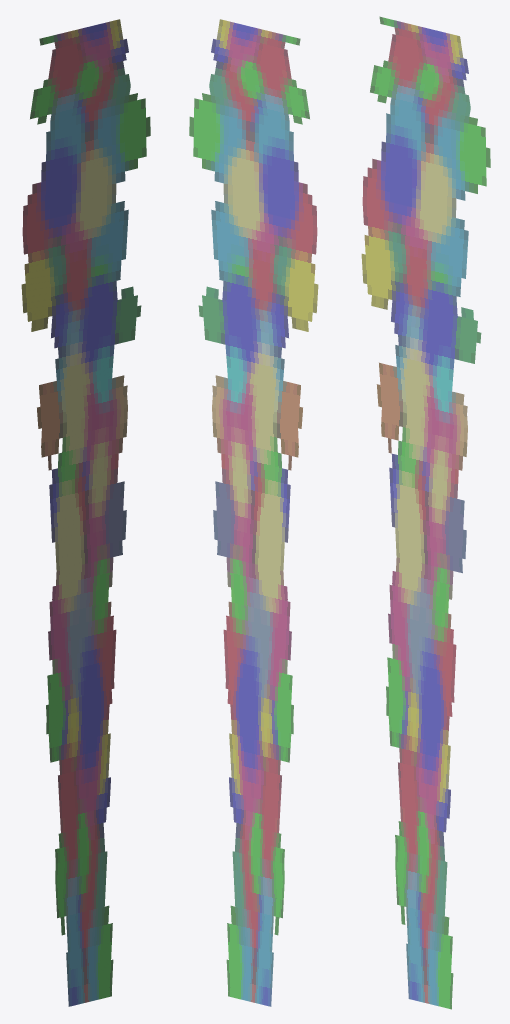
The picture shows the model from 3 angles, left to right: view 1: azimuth 30°, elevation 25°; view 2: azimuth 150°, elevation 25°; view 3: azimuth 330°, elevation 25°; orthographic projection.
Parts seen in each view (by area): view 1: Joint_0_Object_0; view 2: Joint_0_Object_0; view 3: Joint_0_Object_0.
Part boxes in pixels (x1,y1,x2,y2): Joint_0_Object_0: (21,19,150,1006); Joint_0_Object_0: (189,19,318,1006); Joint_0_Object_0: (361,16,490,1009).
Size of the model in its own units: 6.09 by 40 by 0.
Materials: 1 (1 with a texture image).
